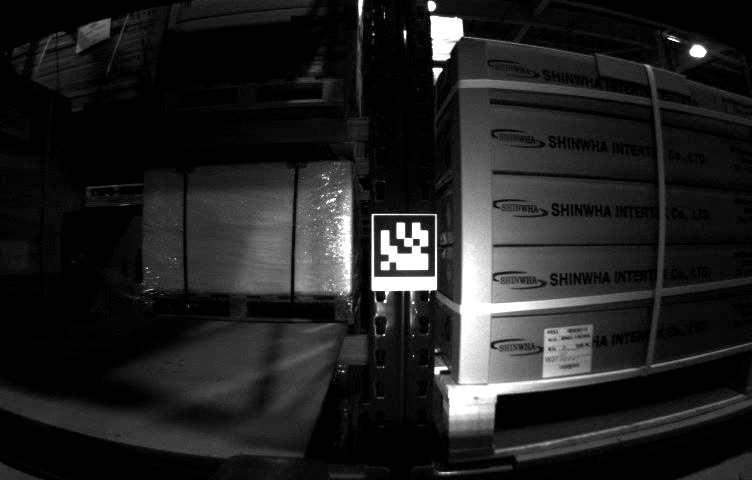True Barcode: (542, 326, 591, 374)
